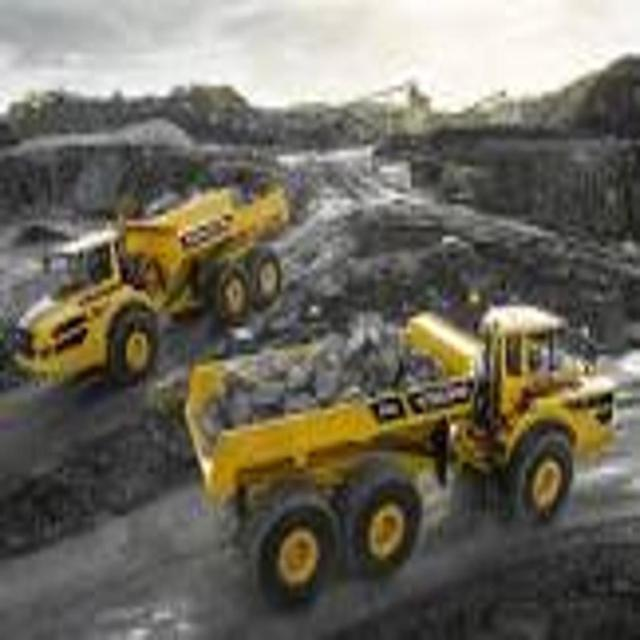dump_truck: (180, 279, 618, 611), (6, 212, 305, 382)
